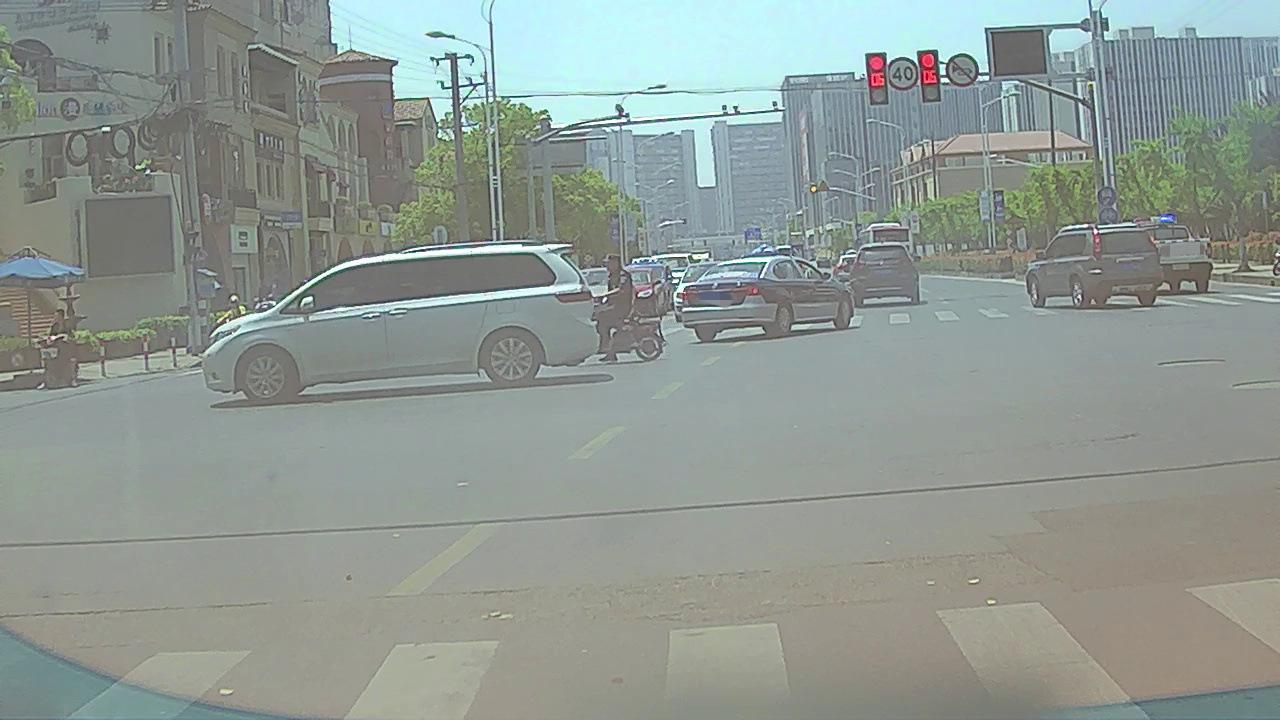traffic_light: (920, 50, 940, 102), (867, 54, 887, 105)
